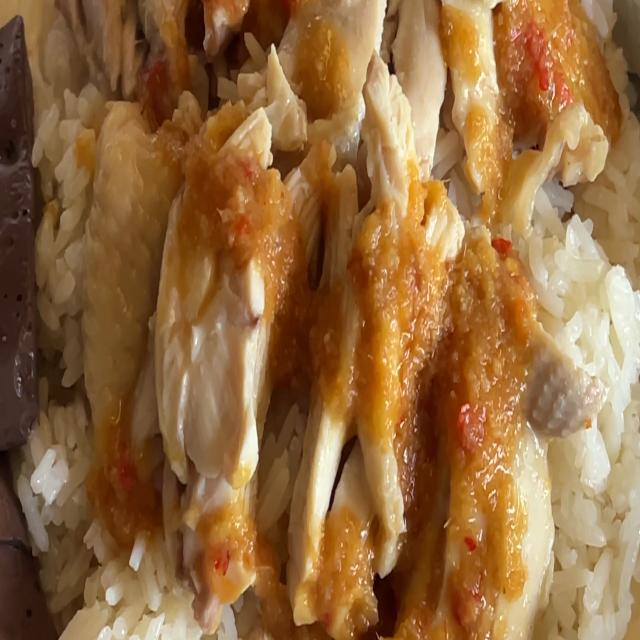boiled_chicken: (92, 2, 556, 540)
boiled_chicken_blood_jelly: (0, 9, 42, 434), (0, 456, 49, 640)
chicken_rice: (0, 0, 640, 640)
